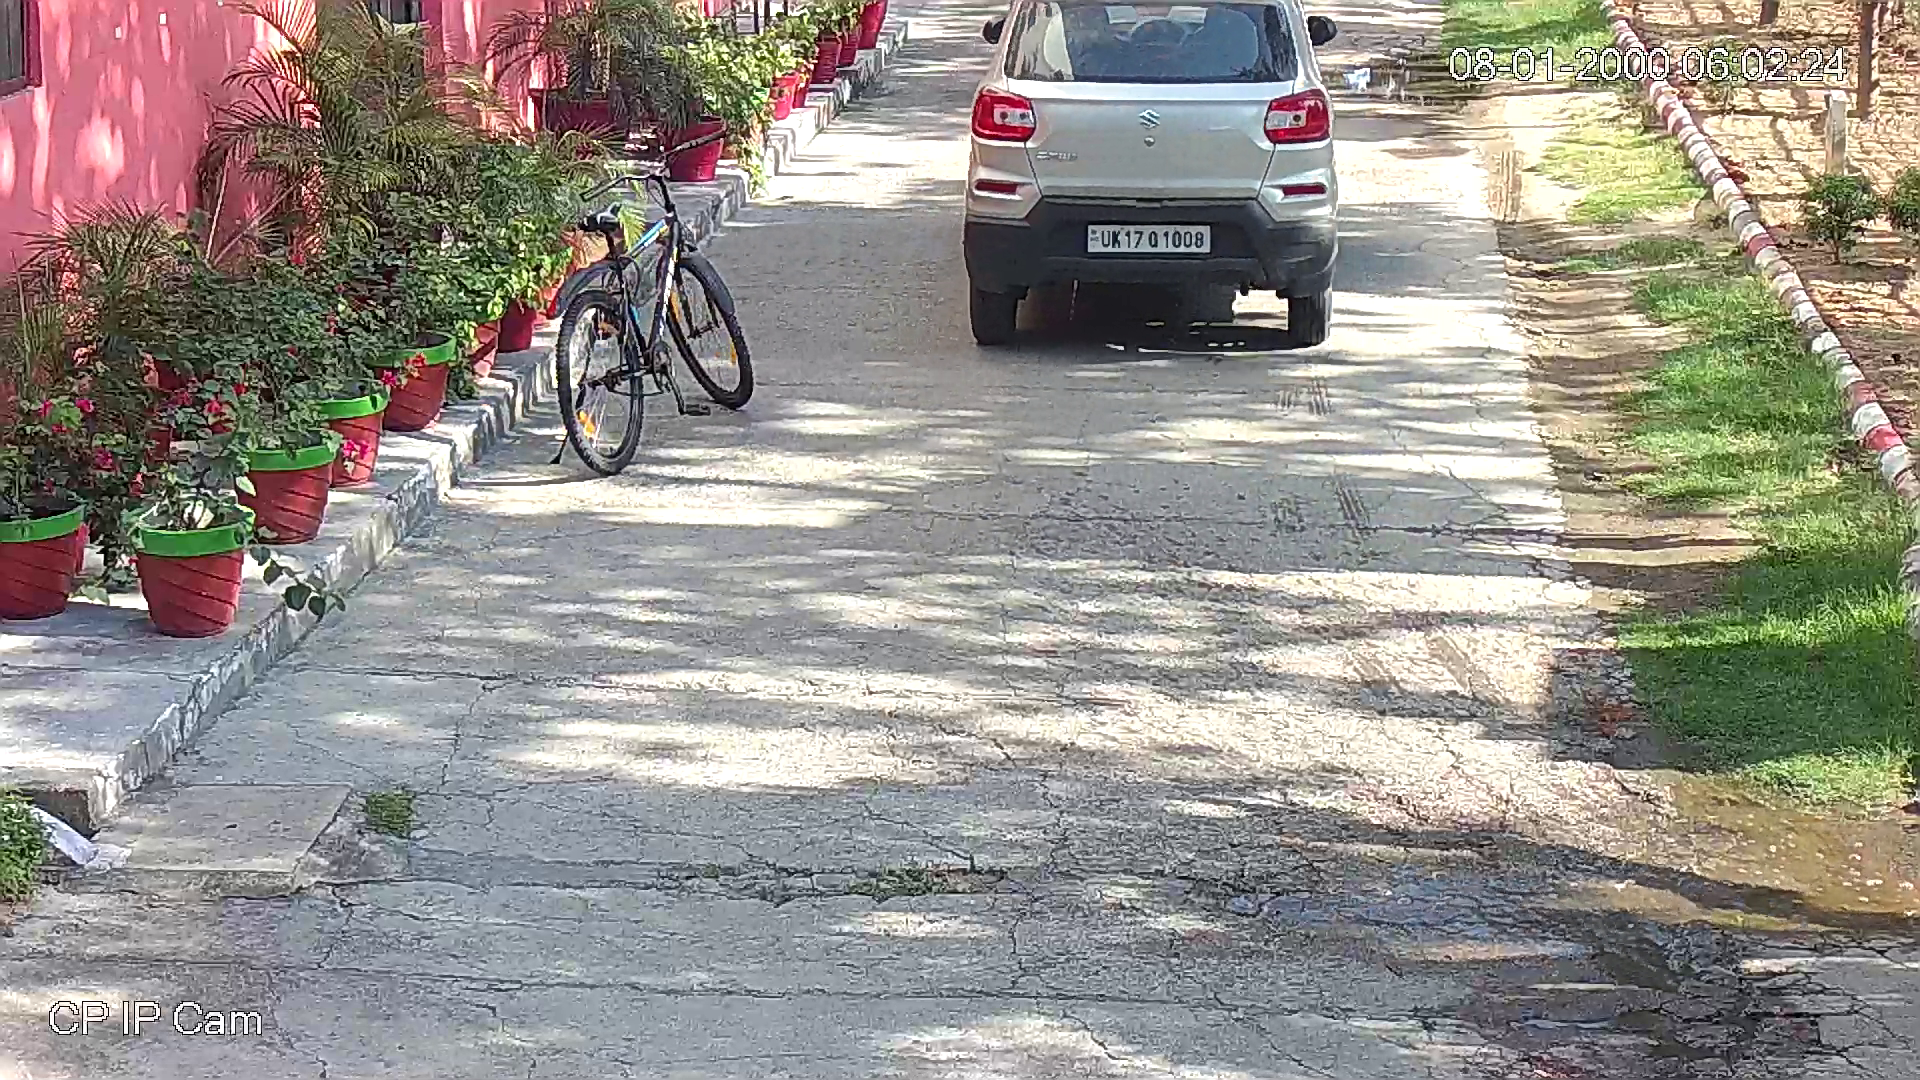plate: (1085, 220, 1214, 256)
